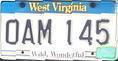placa de veiculo: (1, 0, 116, 60)
